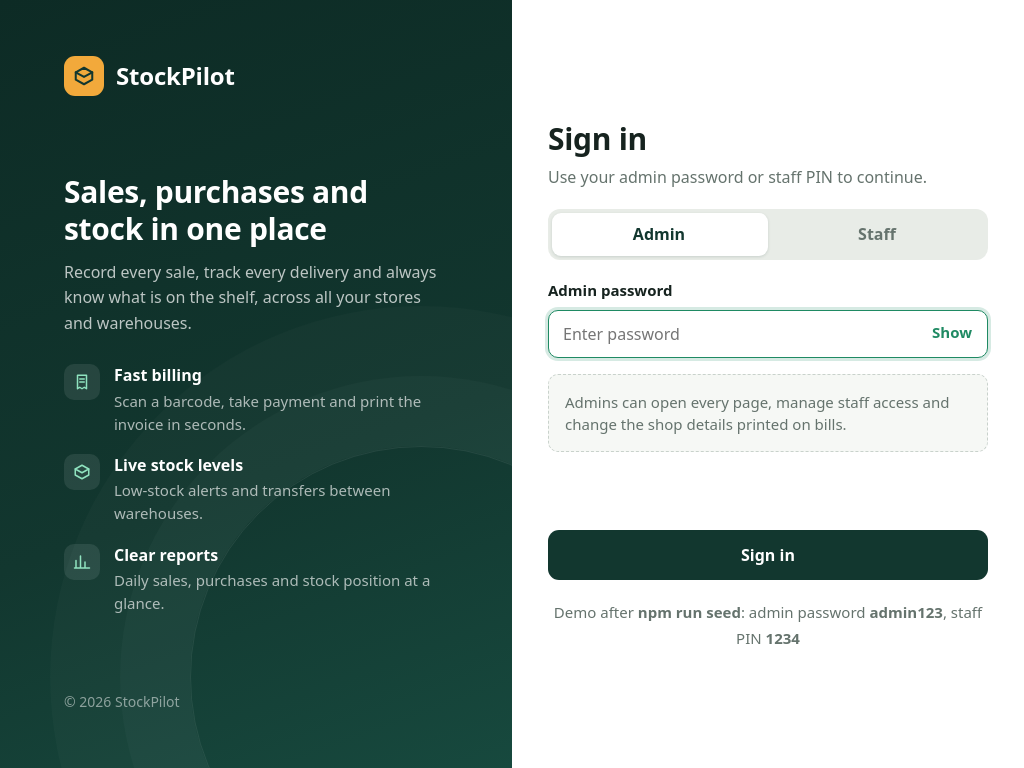
it: restock from Low stock fills the purchase bill
Type "admin123" into the password field with placeholder "Enter password" at (768, 334), box x1=548 y1=310 x2=988 y2=358
Then press Enter
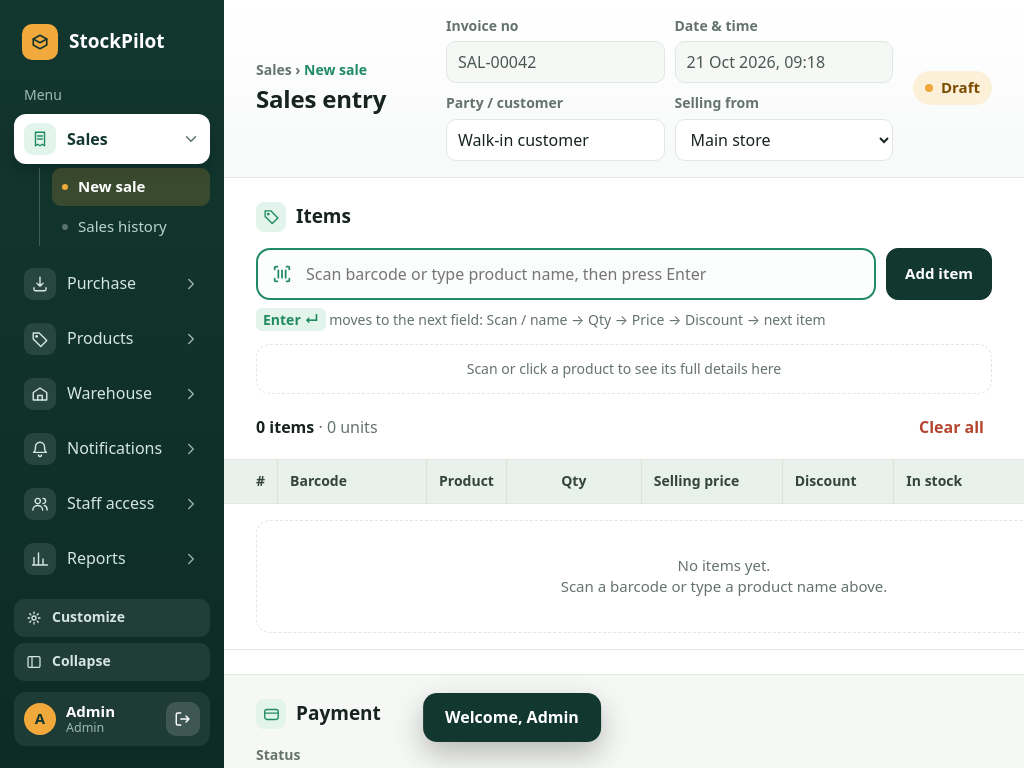
Result: the heading "Sales entry" is shown at x1=256 y1=82 x2=386 y2=115
Click the button "Warehouse" at (112, 394), box x1=14 y1=369 x2=210 y2=419
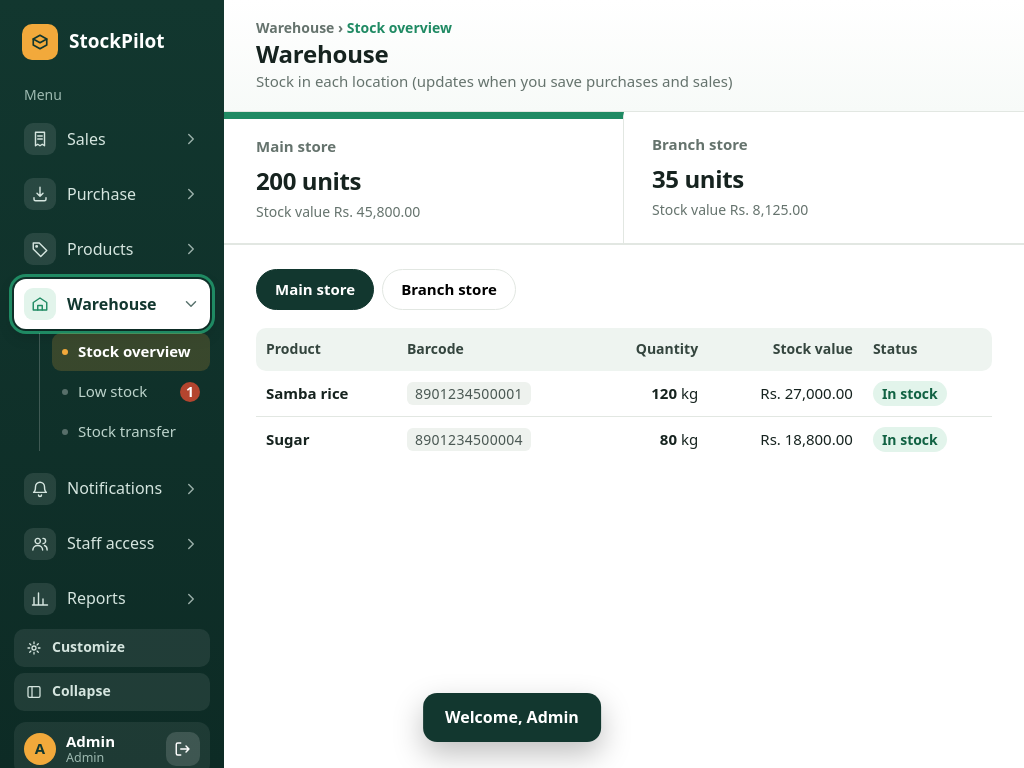
Click the button "Low stock 1" at (131, 392), box x1=52 y1=373 x2=210 y2=411
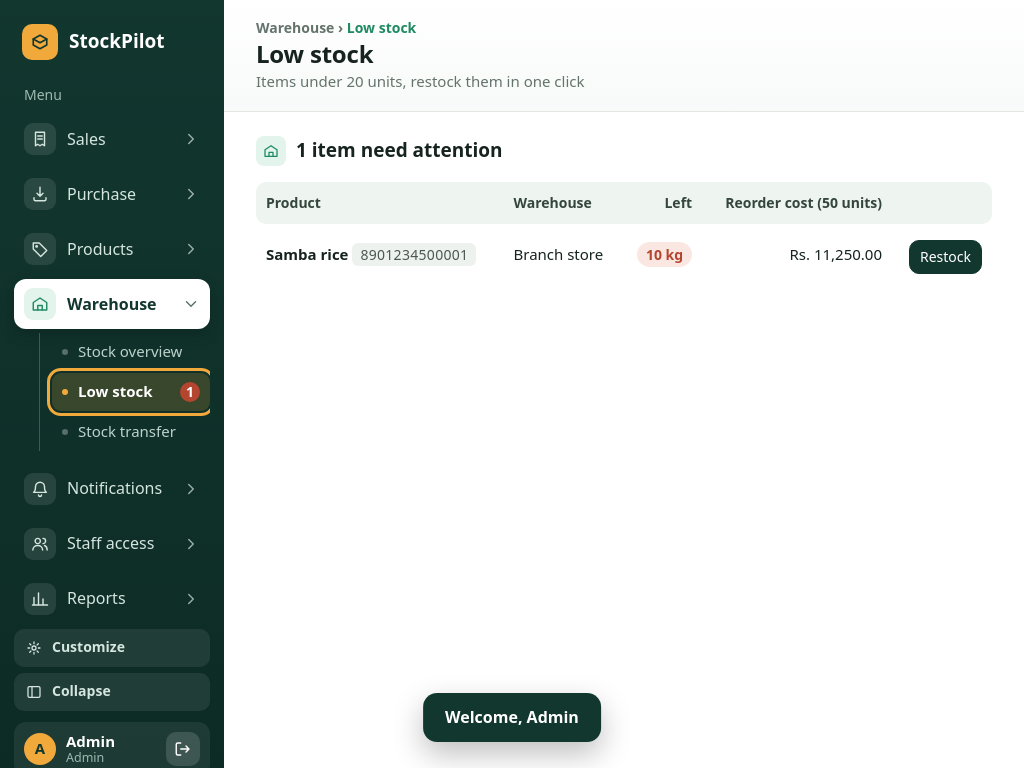
Click the button "Restock" at (946, 257), box x1=909 y1=240 x2=982 y2=274
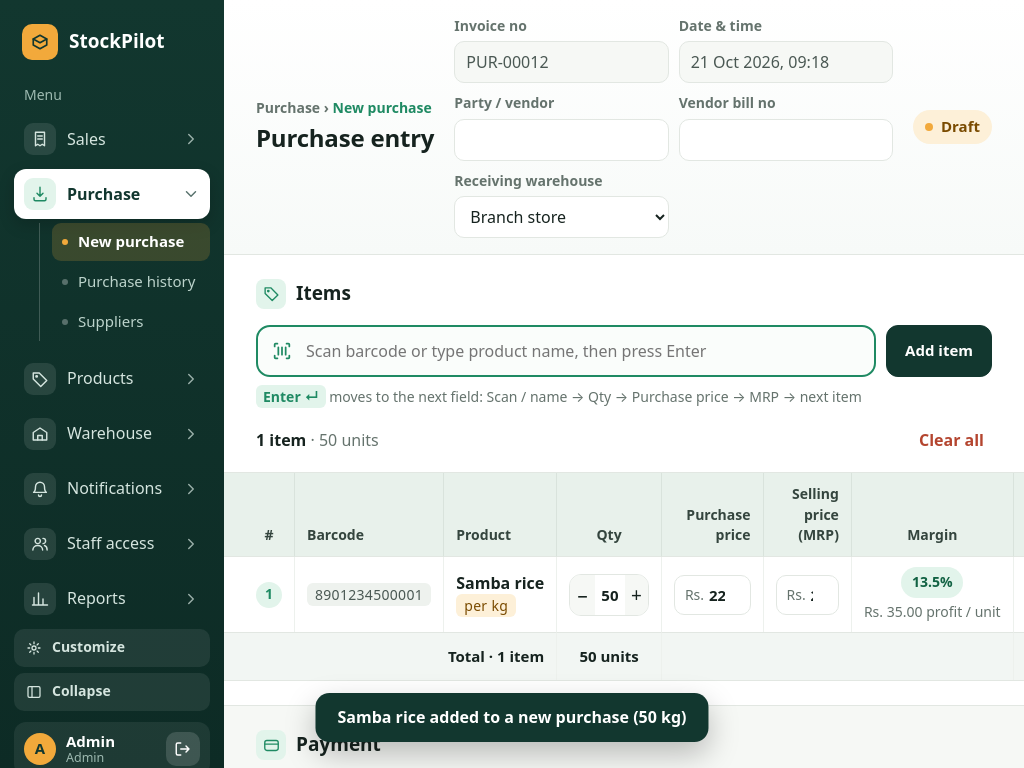
Result: the heading "Purchase entry" is shown at x1=256 y1=121 x2=434 y2=156
Result: the number field named "Quantity for Samba rice" holds "50" at x1=595 y1=575 x2=625 y2=615
Result: the dropdown labelled "Receiving warehouse" shows "Branch store" at x1=454 y1=196 x2=669 y2=238
